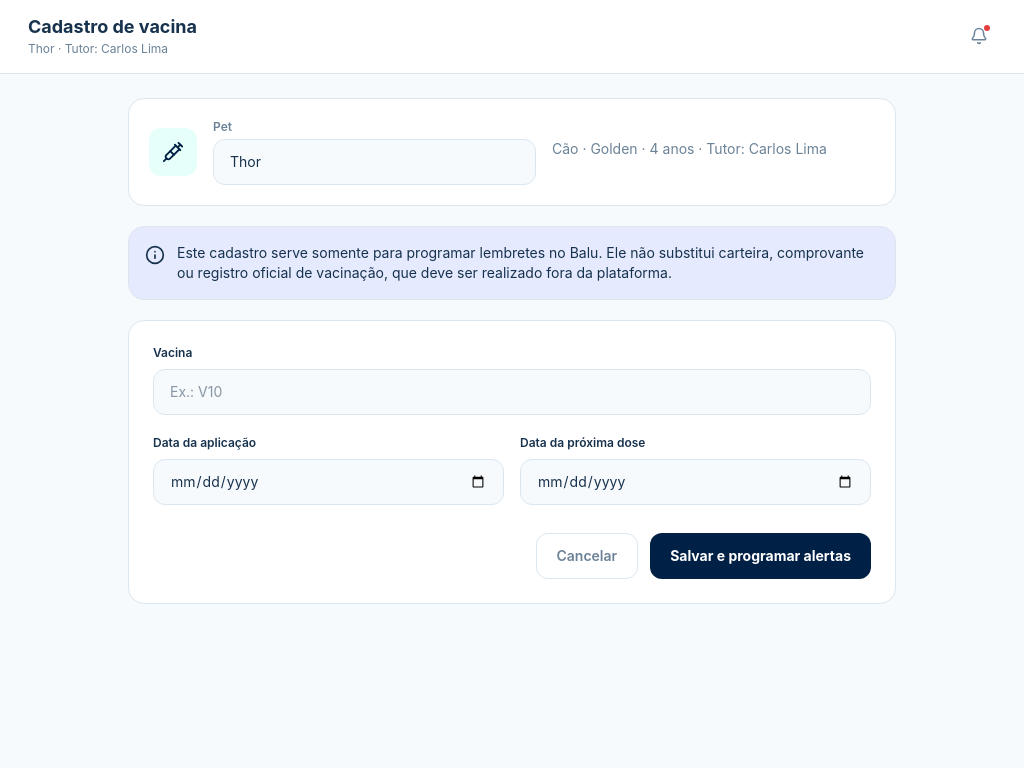
valida campos obrigatórios e a ordem das datas
The width and height of the screenshot is (1024, 768).
Click the button "Salvar e programar alertas" at (761, 556), box [650,532,871,578]
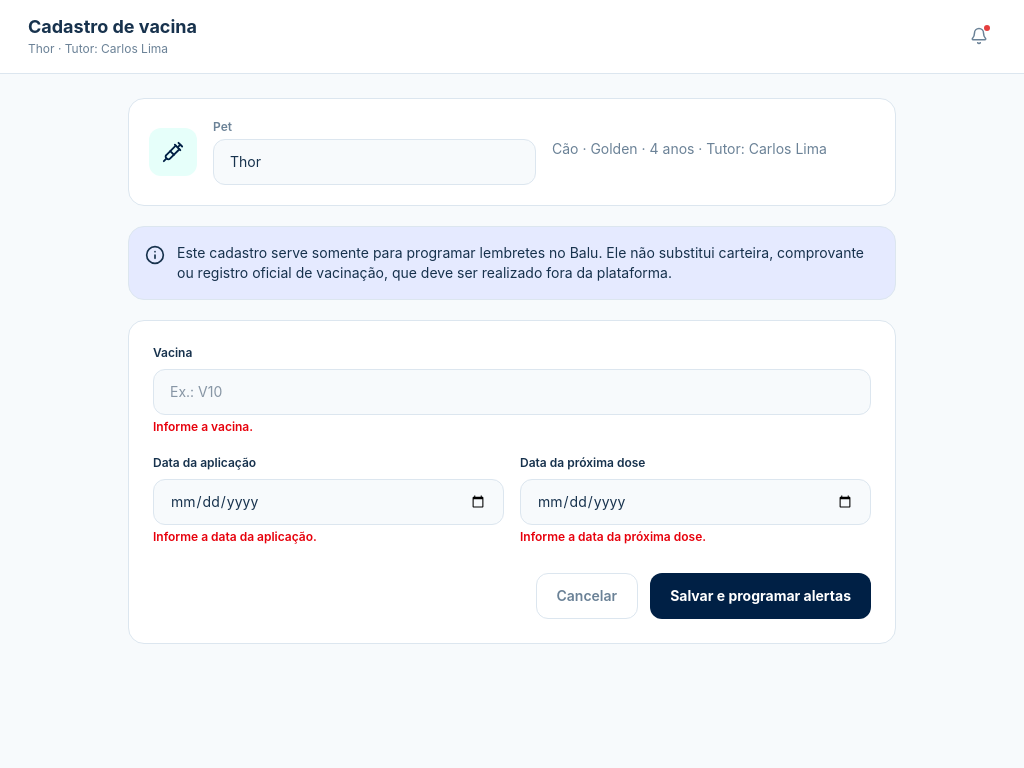
Expected: the number of messages is 3, [153,418,253,434]; [153,528,317,544]; [520,528,706,544]
Type "V10" into the field labelled "Vacina Informe a vacina." at (512, 392), box [153,368,871,414]
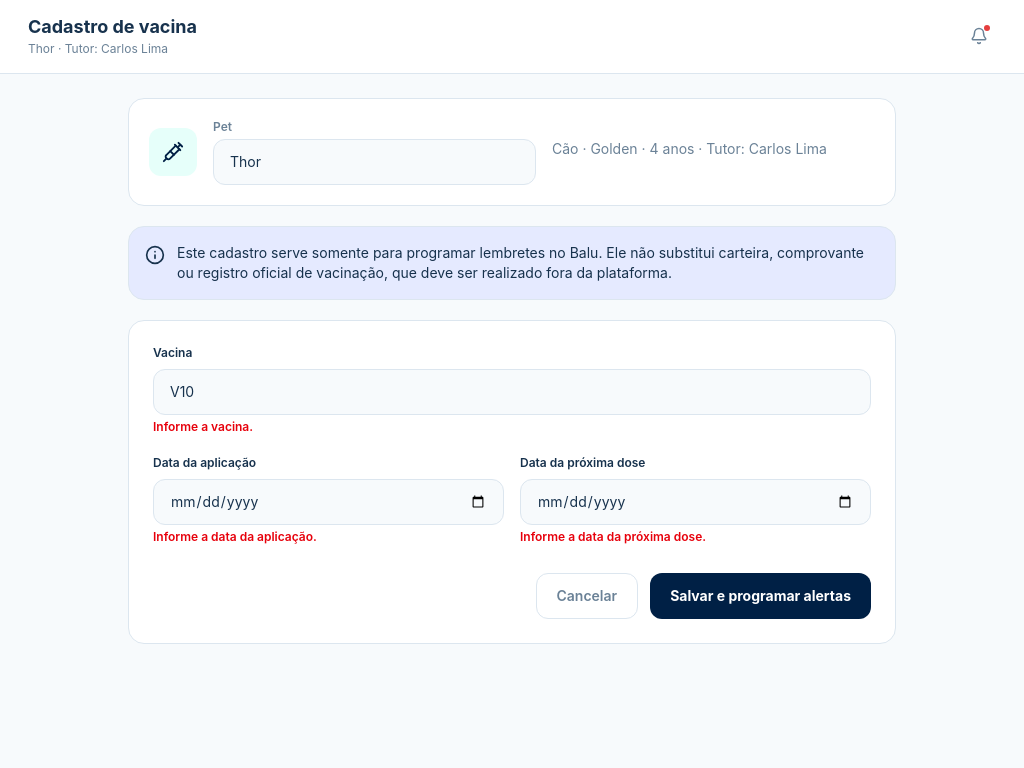
Type "2026-09-20" into the date field labelled "Data da aplicação Informe a data da aplicação." at (328, 502), box [153,478,504,524]
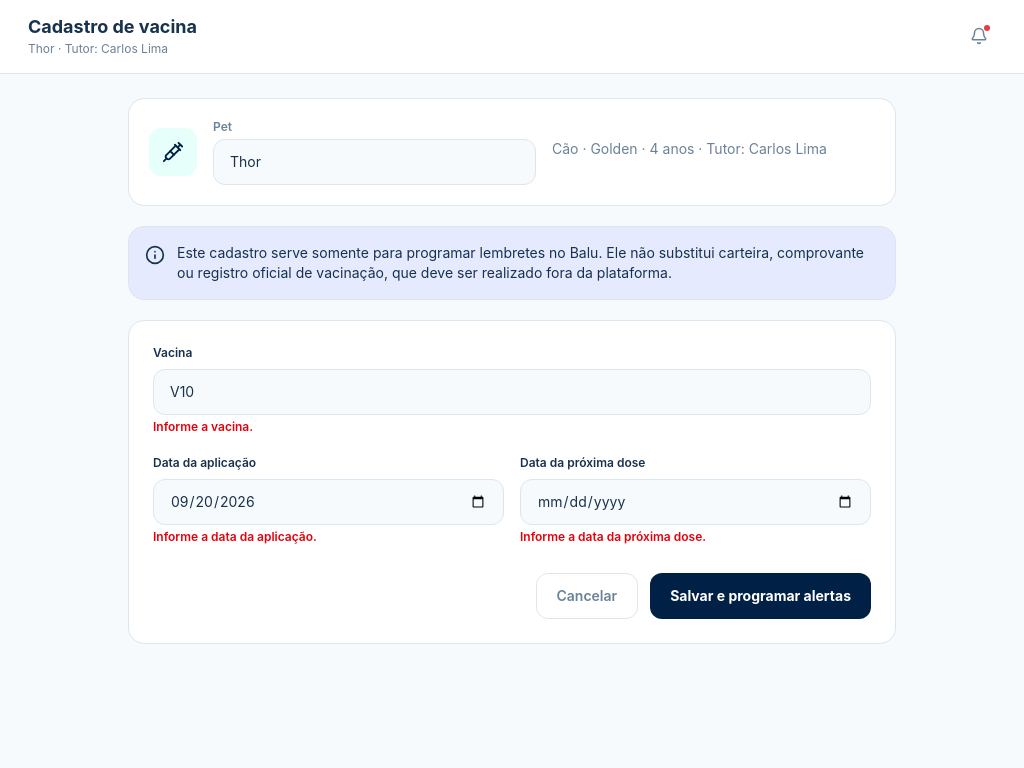
Type "2026-09-20" into the date field labelled "Data da próxima dose Informe a data da próxima dose." at (696, 502), box [520,478,871,524]
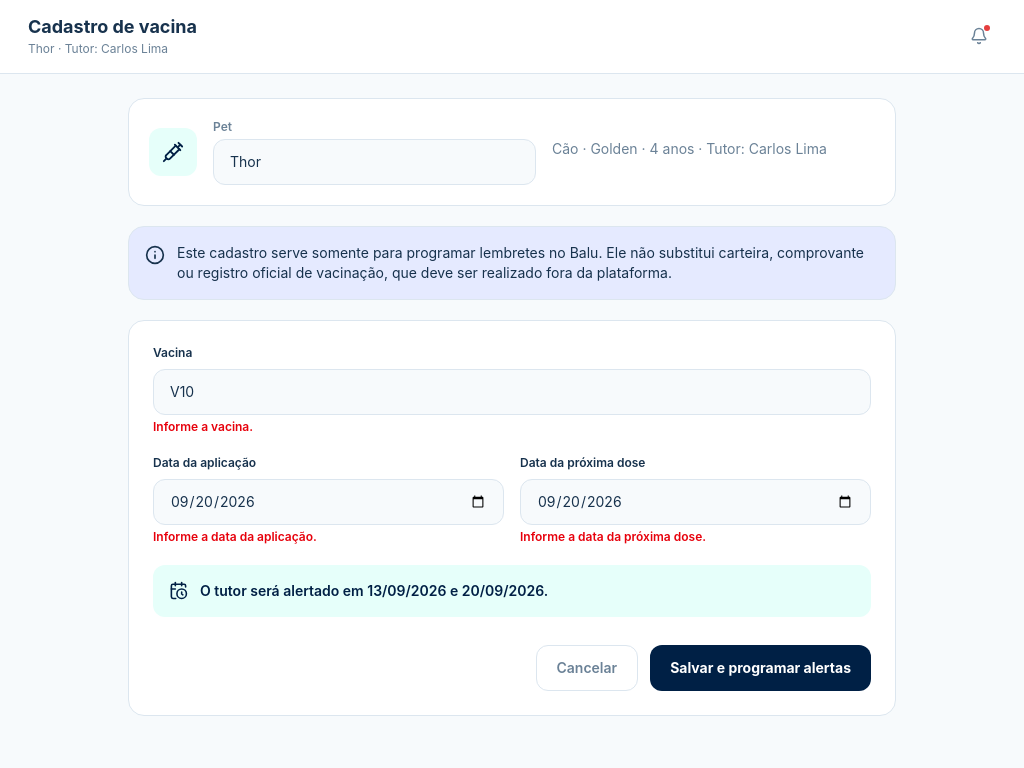
Click the button "Salvar e programar alertas" at (761, 668), box [650,644,871,690]
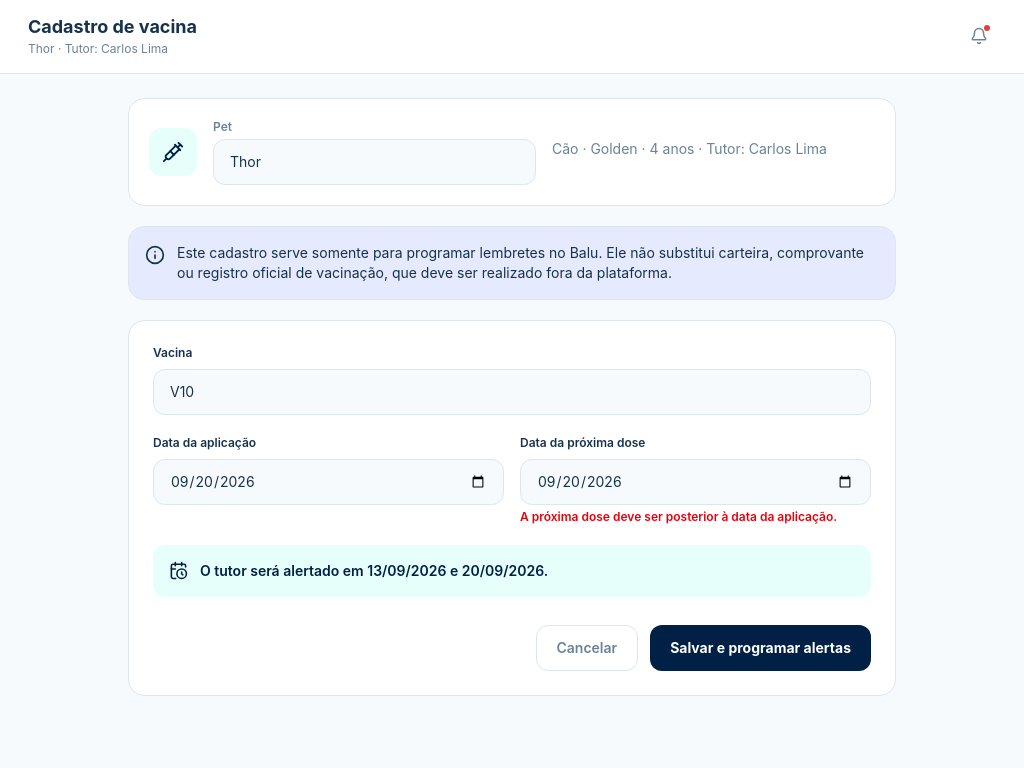
Expected: the text "A próxima dose deve ser posterior à data da aplicação." is shown, [520,508,871,524]
